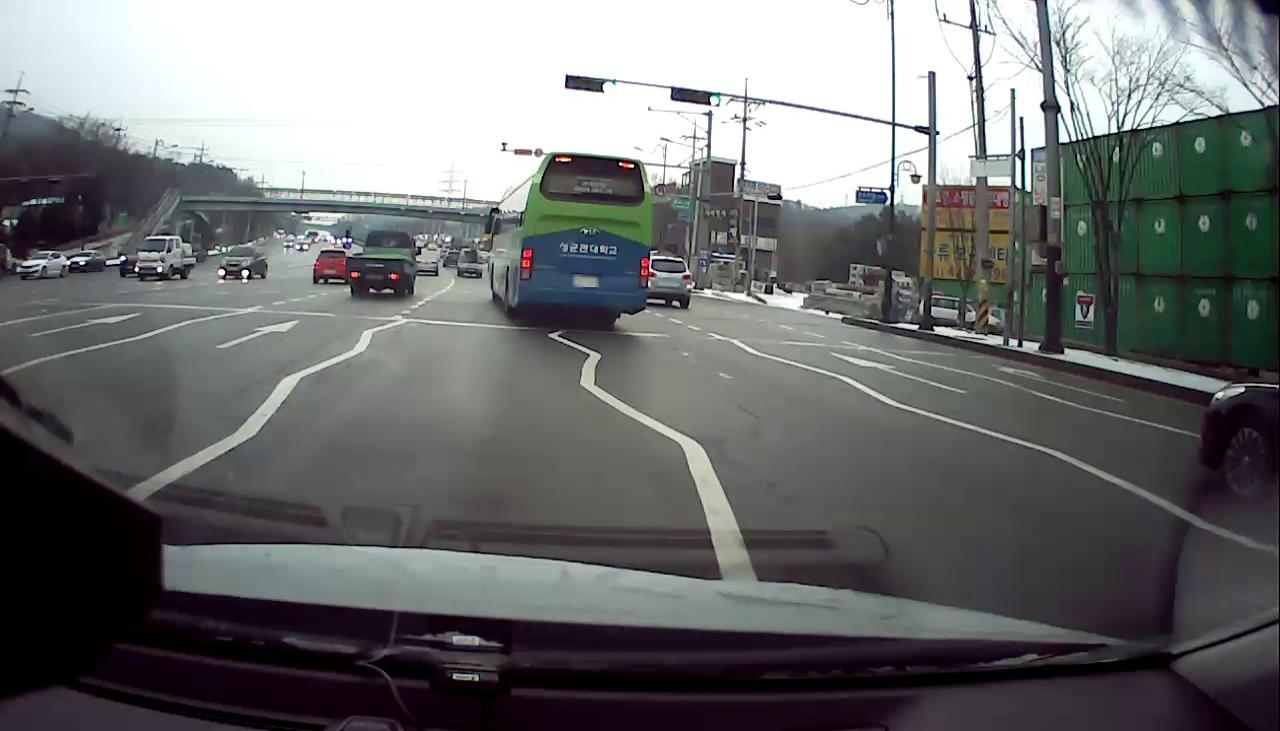Green Light: (600, 79, 618, 96), (707, 92, 721, 107)
